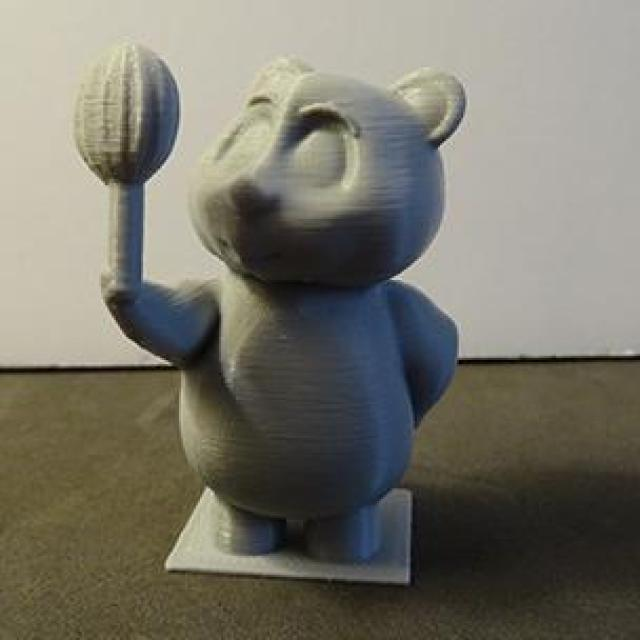Without deffect: (56, 25, 505, 602)
